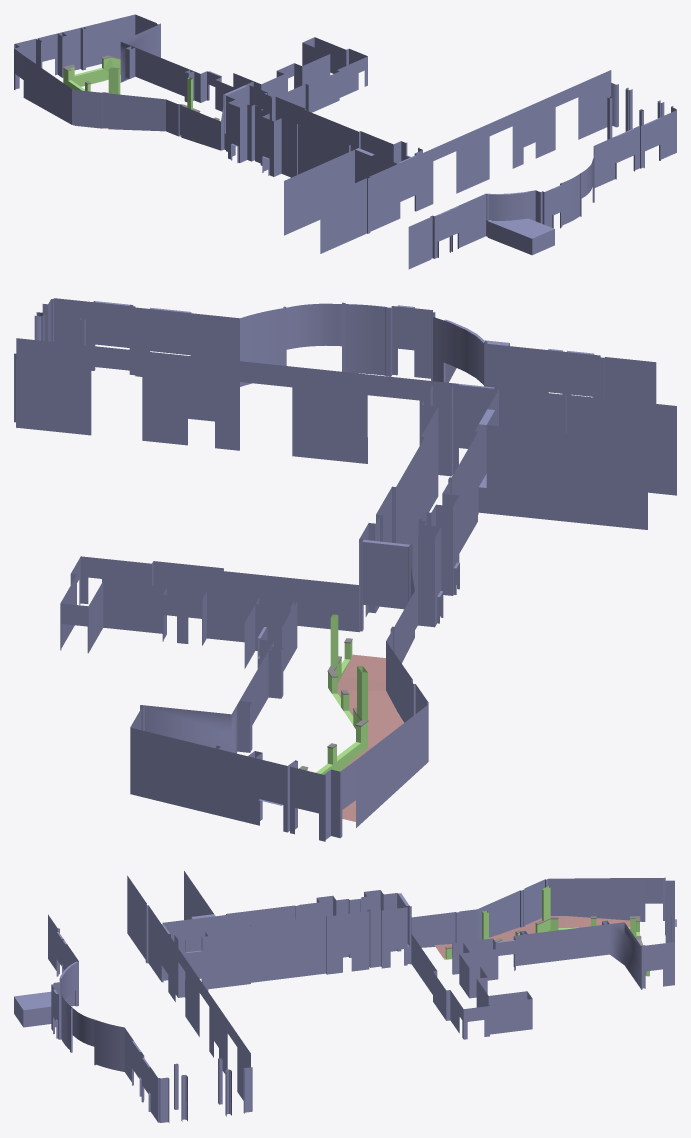
The model's file is MainFloorComplete.FBX.
3 views of the same model, one above another, from view 1: azimuth 30°, elevation 25°; view 2: azimuth 150°, elevation 25°; view 3: azimuth 270°, elevation 25° (orthographic). The views are drawn at different scales.
Visible parts, largest first — view 1: Wall - Main Level; view 2: Wall - Main Level; view 3: Wall - Main Level.
Part boxes in pixels (x1,y1,x2,y2): Wall - Main Level: (14,14,676,269); Wall - Main Level: (14,298,676,841); Wall - Main Level: (14,871,676,1122).
Size of the model in its own units: 2069 by 322 by 2694.
